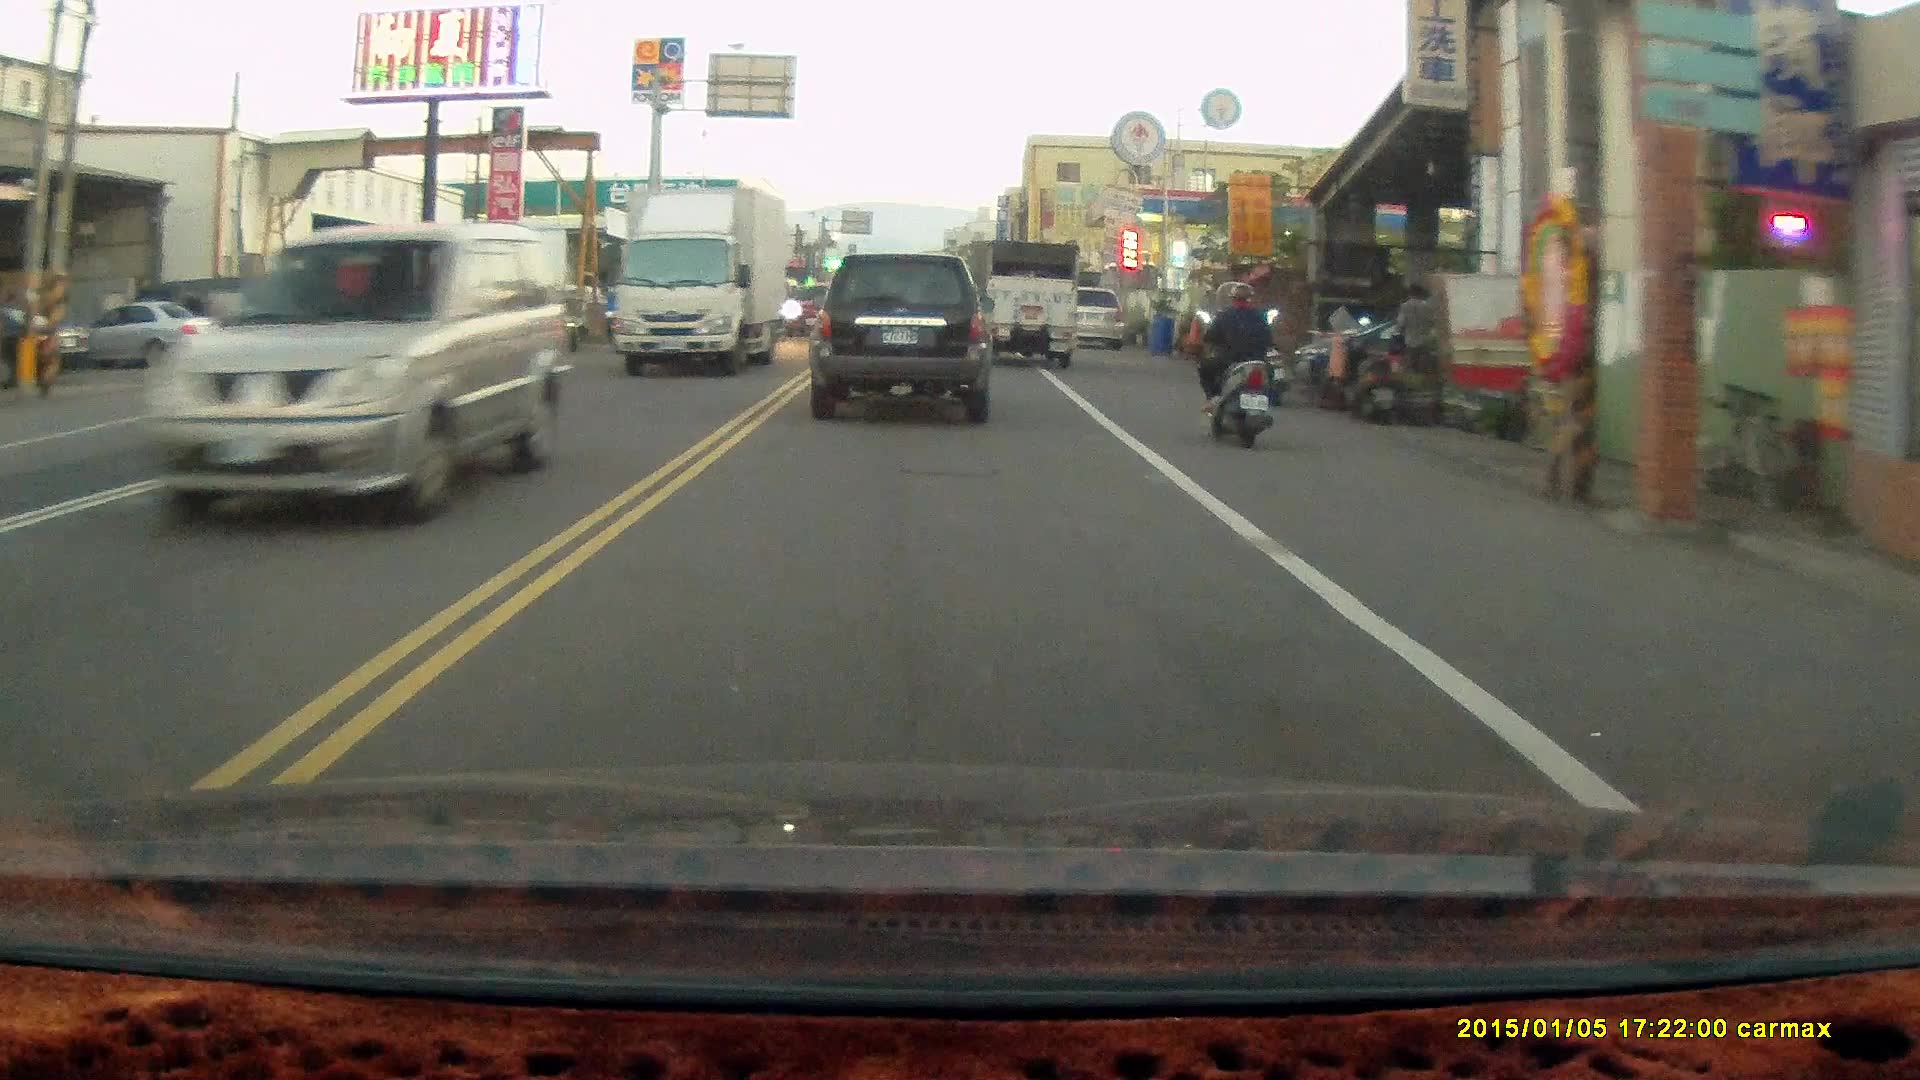pedestrian: (1393, 279, 1438, 403)
rider: (1188, 282, 1277, 450)
vehicle: (139, 220, 575, 527), (612, 185, 789, 376), (806, 252, 994, 427), (980, 237, 1076, 367), (71, 298, 230, 373)
